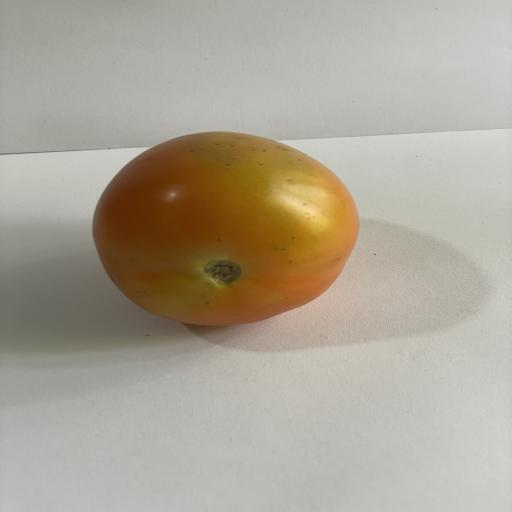unripe: (93, 132, 359, 325)
